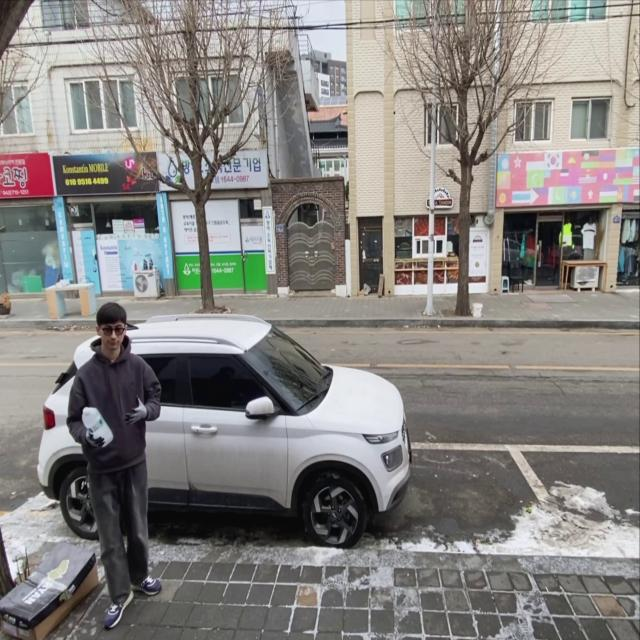gloved_hand: (123, 397, 147, 429), (87, 432, 106, 448)
